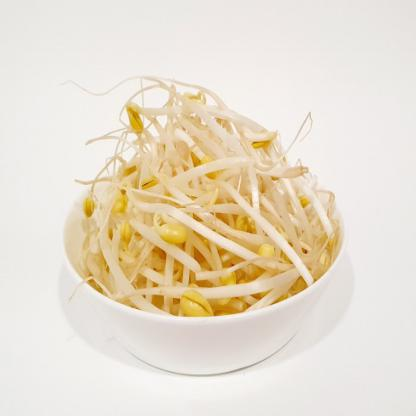bean sprouts: (84, 67, 326, 289)
